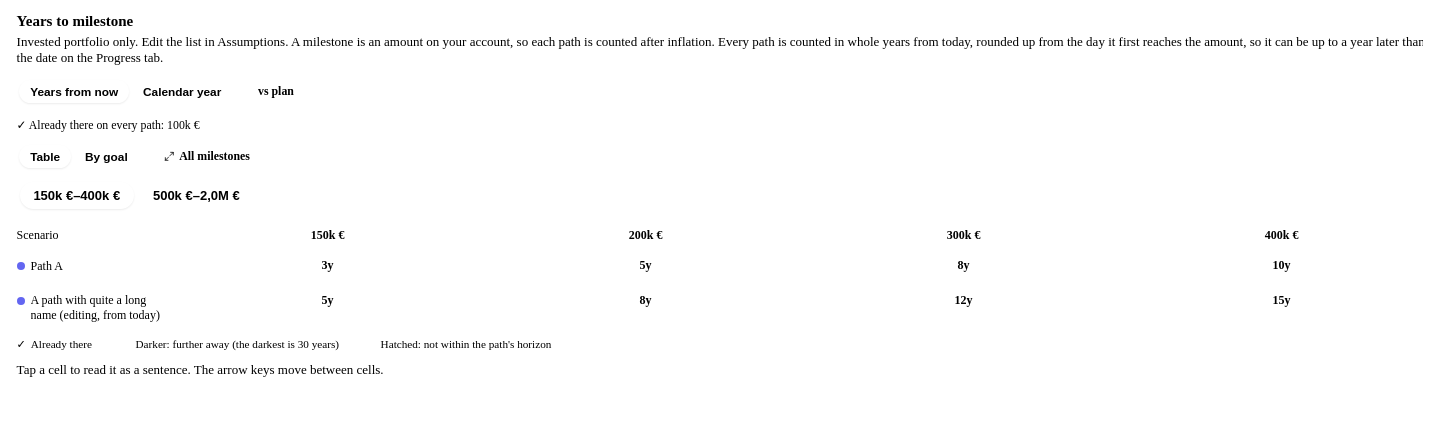
reading by goal › says a path that never gets there, last, as the end of its horizon
The image size is (1443, 436).
Click the radio button labelled "By goal" at (106, 157), box top-left (74, 146), bottom-right (139, 168)
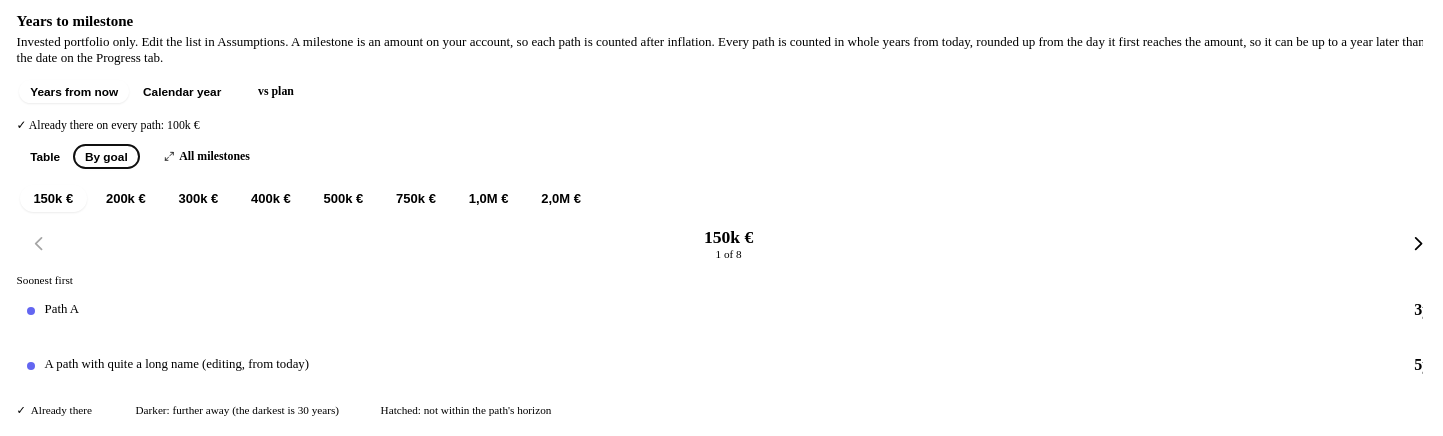
Click the radio button labelled "2,0M €" at (561, 199), box top-left (528, 185), bottom-right (594, 212)
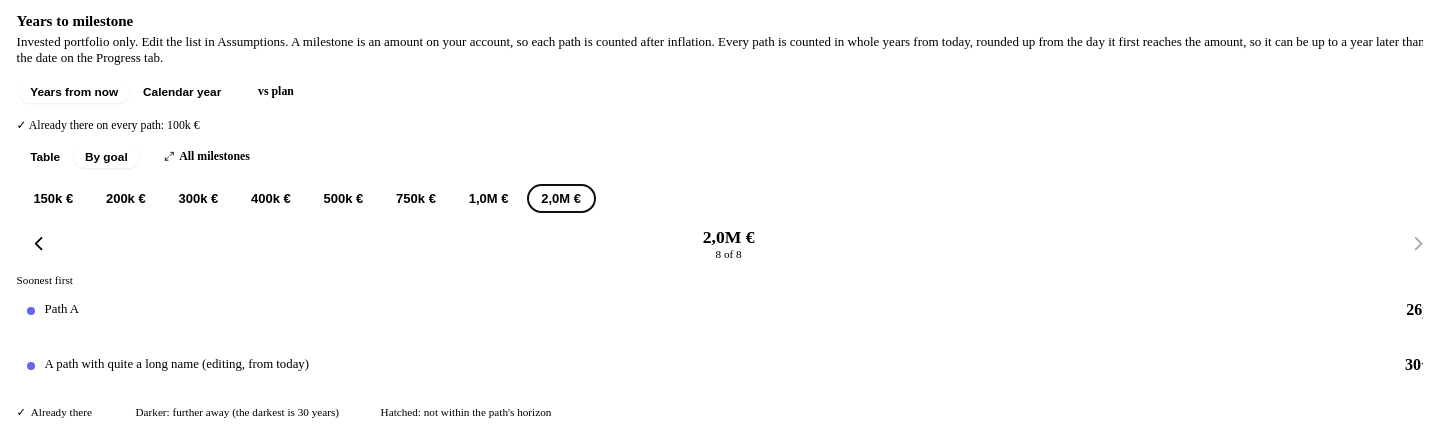
Result: the list item "A path with quite a long name (editing, from today) 30+" is shown at top-left (27, 356), bottom-right (1423, 373)
